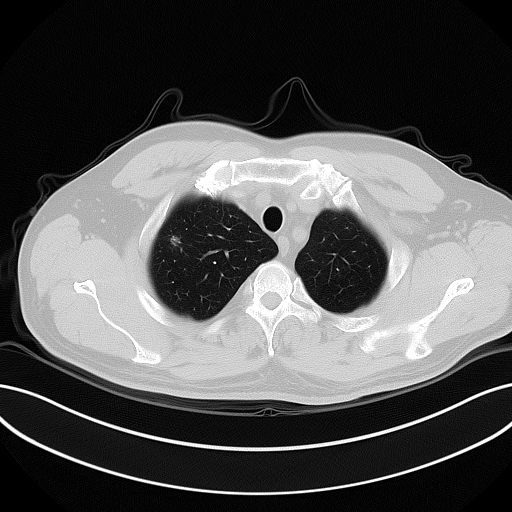nodule: (169, 235, 180, 246)
